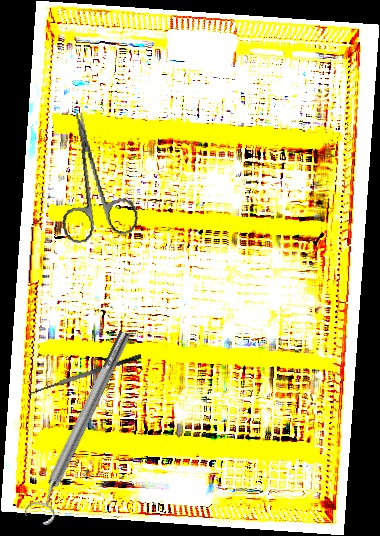Fixation Ring: (20, 326, 142, 528)
Iris Scissors: (43, 104, 142, 246)
Spatula Surgical: (26, 352, 145, 404)
